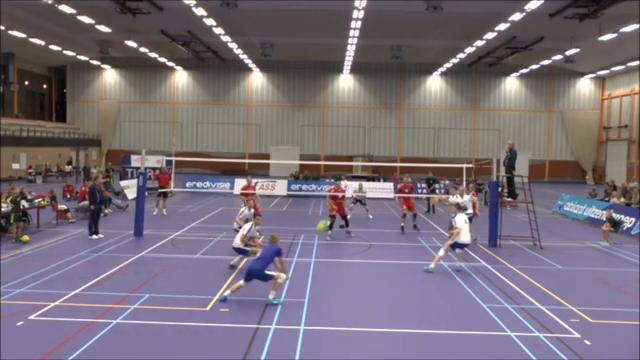difesa: (216, 233, 293, 307)
